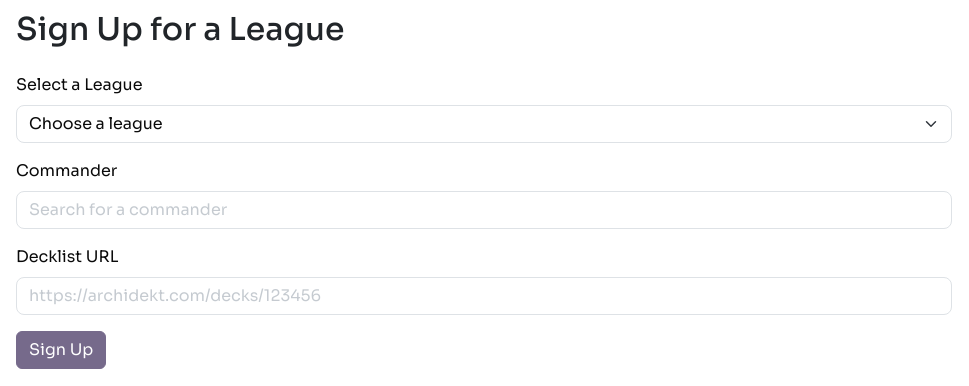
Test case: SignUp › League selection › should enable submit when league is selected
Select "Summer League 2024" in the dropdown labelled "Select a League" at (484, 124), box [16, 105, 952, 143]
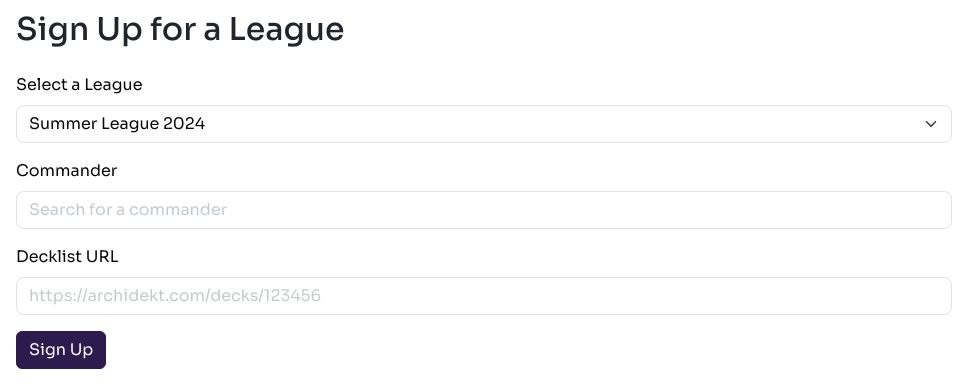
Expected: the button "Sign Up" is enabled, [16, 331, 106, 369]
